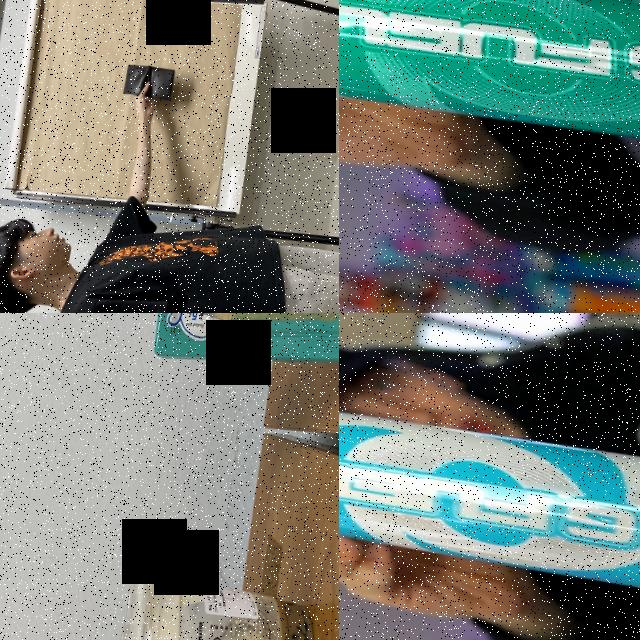can: (339, 378, 640, 612), (339, 0, 640, 171)
cup: (101, 561, 327, 640)
